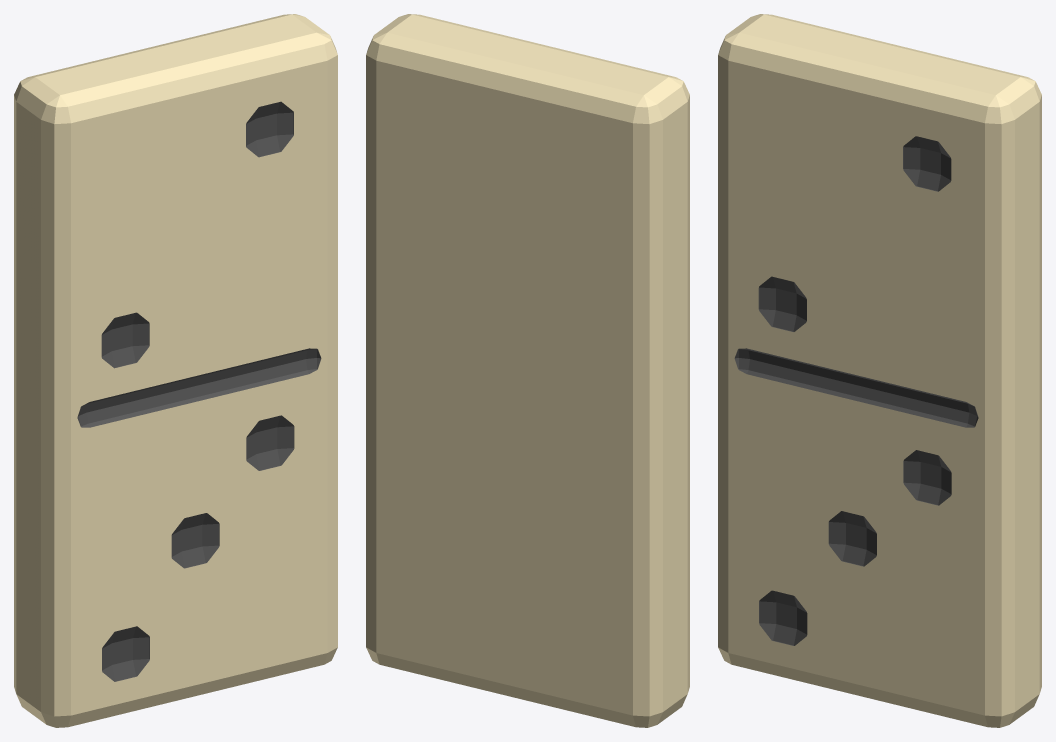
Rendered from dominoes 2x3.fbx.
3 views of the same model, side by side, from view 1: azimuth 30°, elevation 25°; view 2: azimuth 150°, elevation 25°; view 3: azimuth 330°, elevation 25° (orthographic).
Parts seen in each view (by area): view 1: Boole_11; view 2: Boole_11; view 3: Boole_11.
Boxes of the visible parts, x1=… form: Boole_11: x1=14, y1=14, x2=337, y2=727; Boole_11: x1=366, y1=14, x2=689, y2=727; Boole_11: x1=718, y1=14, x2=1041, y2=727.
Size of the model in its own units: 200 by 410 by 55.02.
